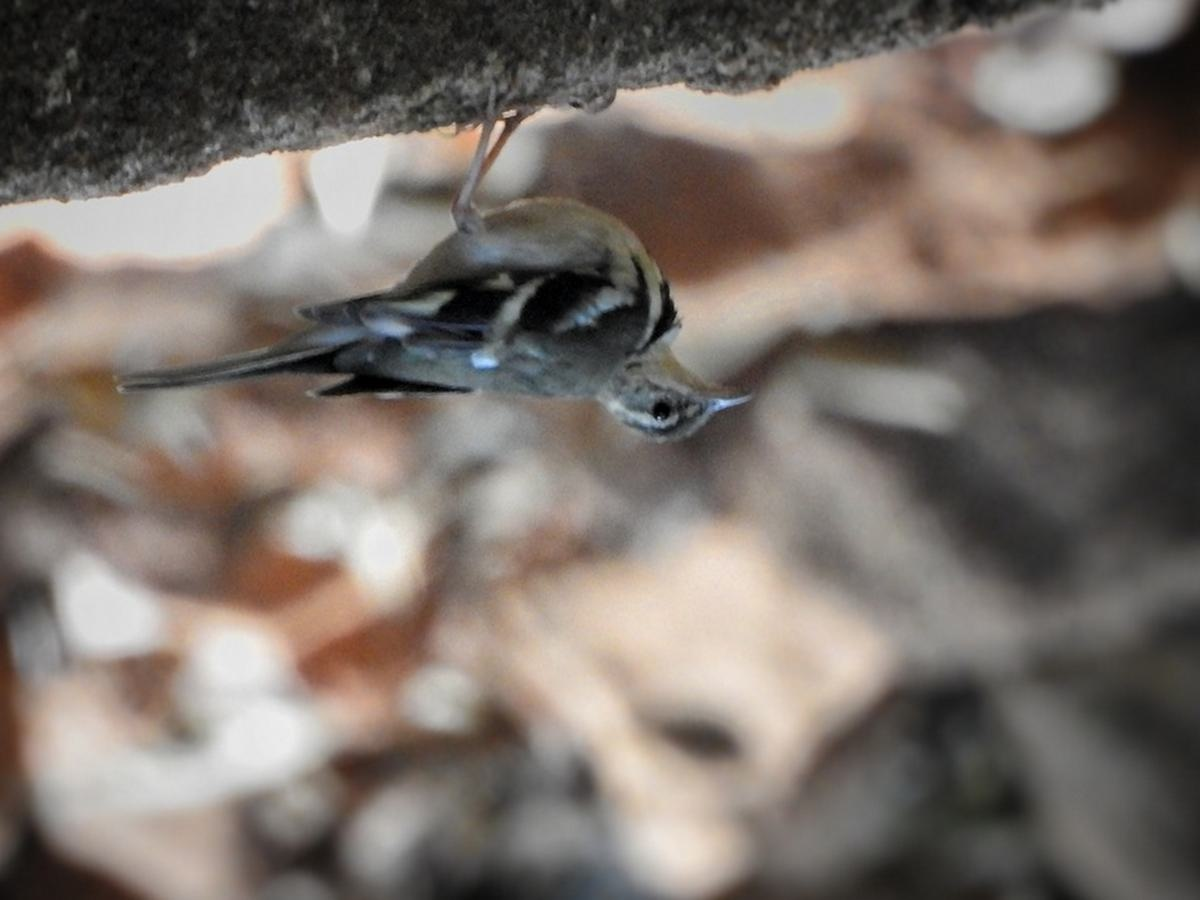wagtail: (214, 114, 793, 456)
